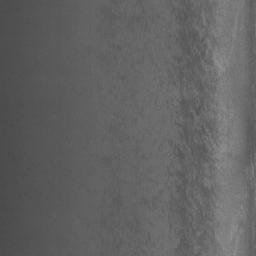Silk spot: (168, 0, 220, 126), (175, 118, 220, 256), (169, 194, 199, 256), (168, 139, 185, 164), (127, 216, 141, 233), (140, 197, 157, 208), (113, 190, 122, 207), (212, 35, 219, 47), (102, 157, 112, 164)
